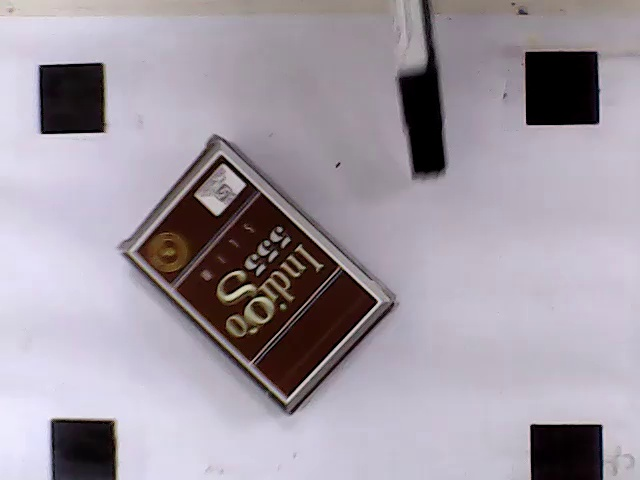BEX: (130, 151, 382, 401)
